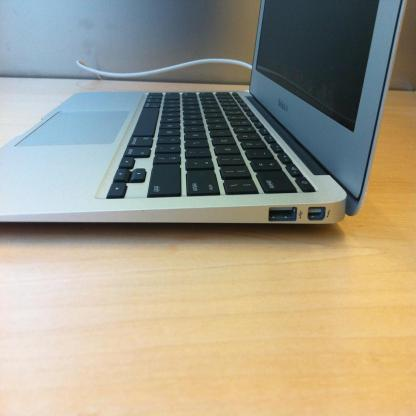board: (9, 4, 396, 237)
